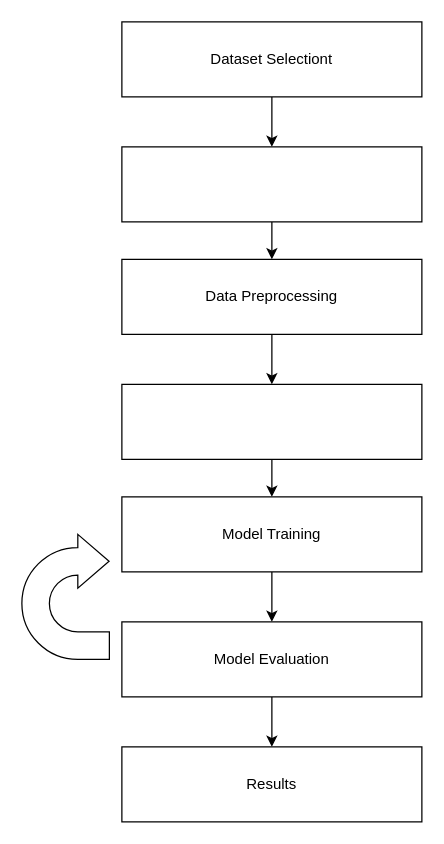
This 444x844 diagram has some shape labels left out. The centre of each missing label's shape, as x and y in pixels:
"Data Loading" goes at (x=271, y=184).
"Train/Test Split" goes at (x=271, y=421).
